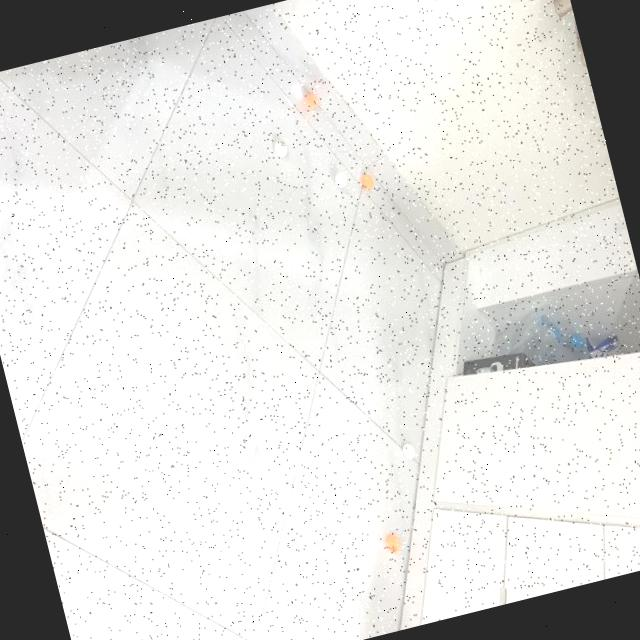ping-pong-ball: (301, 86, 321, 113), (382, 528, 402, 554), (269, 134, 289, 160), (330, 166, 349, 186), (399, 438, 416, 460), (357, 170, 374, 192)
